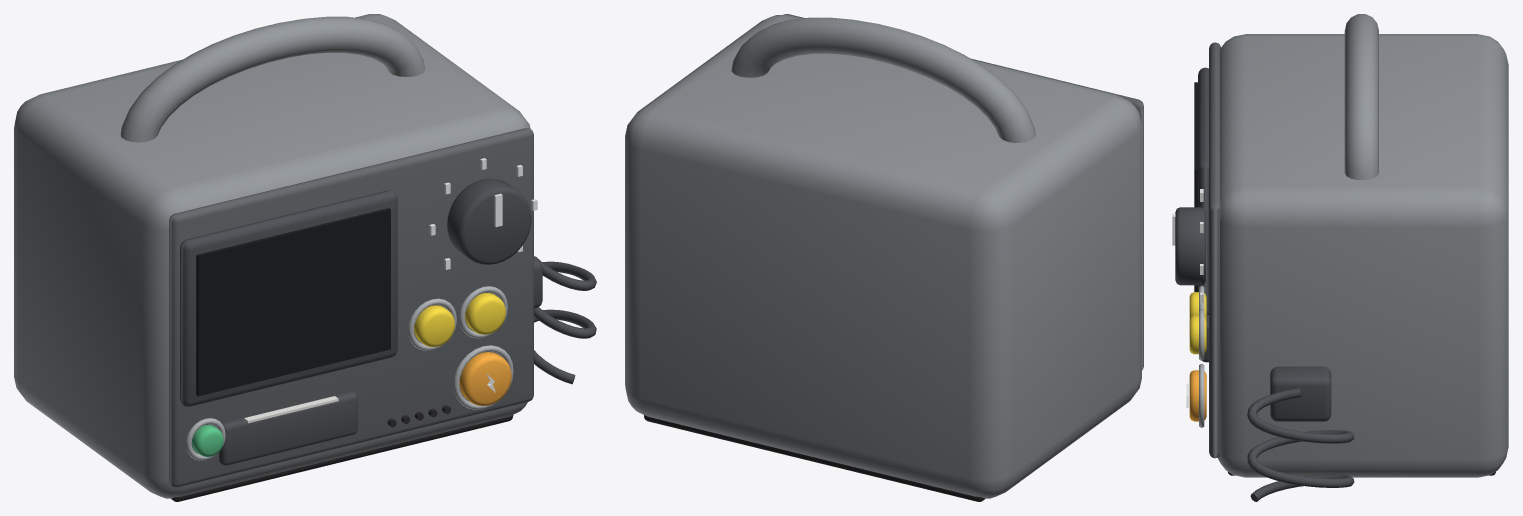
File: defibrillateur.glb
3 views of the same model, side by side, from view 1: azimuth 30°, elevation 25°; view 2: azimuth 150°, elevation 25°; view 3: azimuth 270°, elevation 25° (orthographic). The views are drawn at different scales.
Parts seen in each view (by area): view 1: defibrillateur, Ecran, Molette, Bouton_Choc, Bouton_Charge, Bouton_Analyse, Bouton_Marche; view 2: defibrillateur; view 3: defibrillateur, Molette, Bouton_Choc, Bouton_Charge, Ecran, Bouton_Analyse.
Part boxes in pixels (x1,y1,x2,y2): defibrillateur: [14, 14, 596, 501]; Ecran: [196, 208, 390, 396]; Molette: [447, 178, 531, 264]; Bouton_Choc: [453, 345, 513, 409]; Bouton_Charge: [459, 286, 507, 338]; Bouton_Analyse: [408, 298, 456, 350]; Bouton_Marche: [186, 418, 225, 460]; defibrillateur: [625, 14, 1143, 501]; defibrillateur: [1198, 14, 1508, 501]; Molette: [1172, 207, 1205, 285]; Bouton_Choc: [1186, 363, 1206, 427]; Bouton_Charge: [1189, 309, 1206, 360]; Ecran: [1194, 82, 1197, 291]; Bouton_Analyse: [1189, 285, 1206, 319].
Bounding box in the file's own units: 0.416 × 0.3235 × 0.275.
